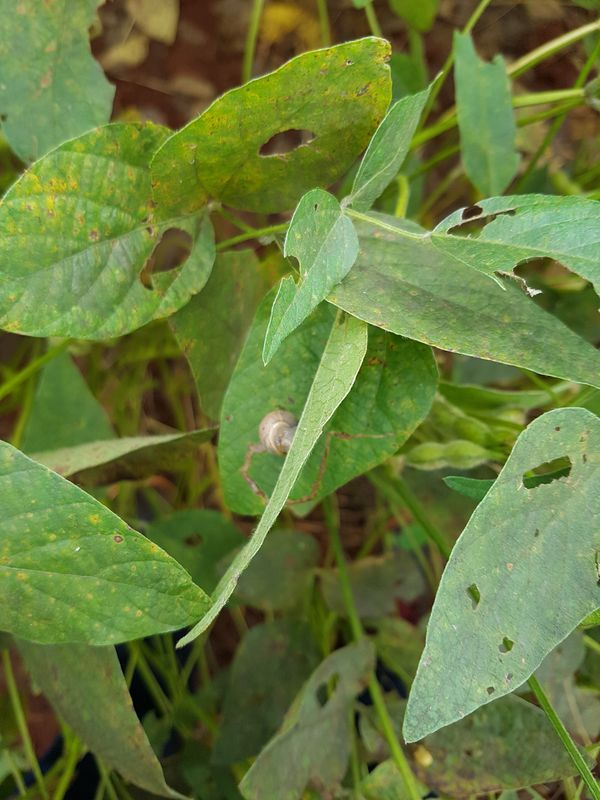Gastropoda: (249, 401, 308, 467)
